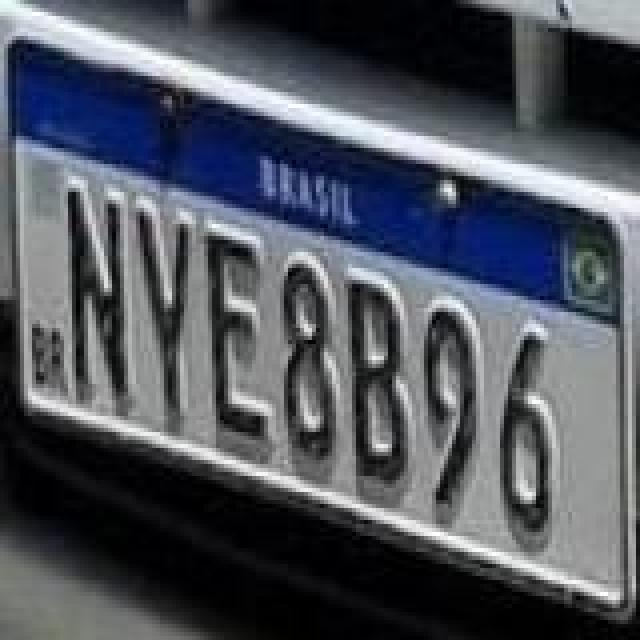6: (498, 328, 558, 520)
8: (282, 258, 342, 462)
9: (420, 302, 484, 506)
B: (348, 276, 412, 484)
E: (206, 230, 274, 442)
N: (62, 182, 130, 418)
Y: (132, 204, 196, 436)
